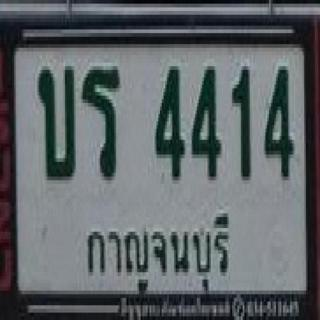A26: (34, 59, 80, 185)
A35: (78, 60, 130, 188)
N01: (226, 57, 261, 189)
N04: (148, 58, 190, 188), (186, 57, 227, 189), (261, 59, 302, 186)
P17: (80, 205, 234, 292)
